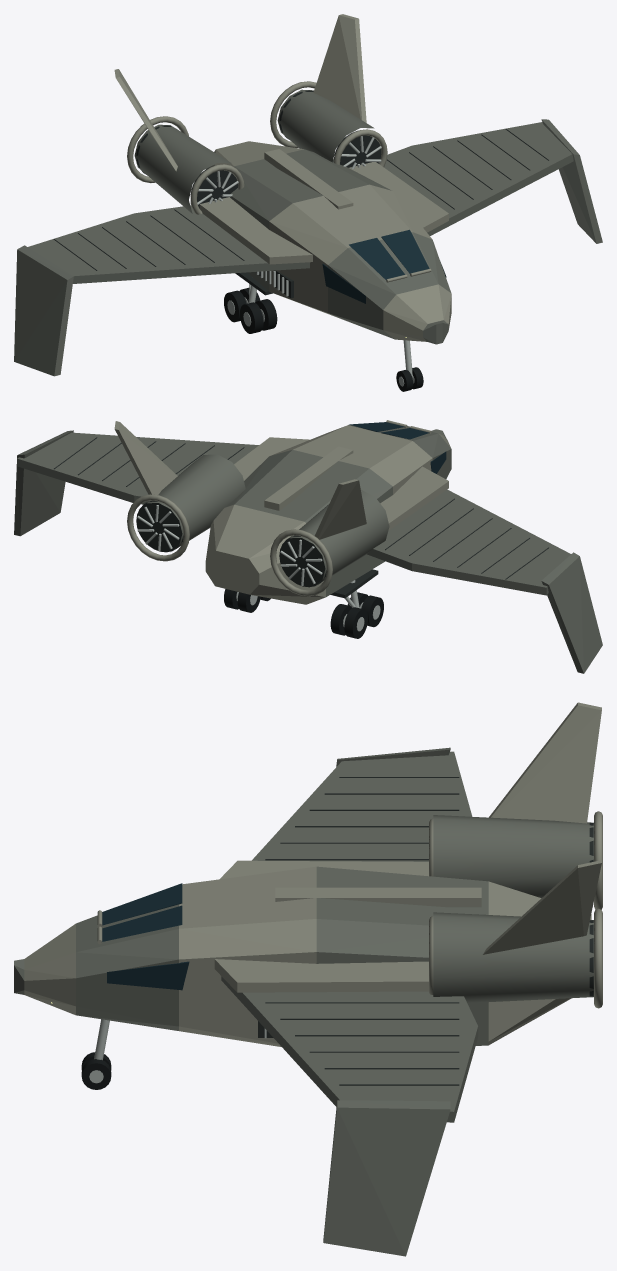
Rendered from atlas-42.glb.
The picture shows the model from 3 angles, top to bottom: view 1: azimuth 30°, elevation 25°; view 2: azimuth 150°, elevation 25°; view 3: azimuth 270°, elevation 25°; orthographic projection. The views are drawn at different scales.
Visible parts, largest first — view 1: Swept_wing_-1, Swept_wing_1, Fuselage_2, Downturned_tip_-1, Fuselage_3, Fuselage_1, Engine_shroud_-1, Engine_shroud_1, Canted_tail_1, Wing_root_armor_-1, Fuselage_4, Downturned_tip_1 (+14 smaller); view 2: Swept_wing_-1, Swept_wing_1, Fuselage_0, Fuselage_1, Fuselage_2, Engine_shroud_1, Downturned_tip_-1, Engine_shroud_-1, Downturned_tip_1, Wing_root_armor_-1, Canted_tail_-1, Canted_tail_1 (+9 smaller); view 3: Swept_wing_1, Fuselage_2, Swept_wing_-1, Downturned_tip_1, Engine_shroud_1, Fuselage_1, Engine_shroud_-1, Fuselage_3, Canted_tail_-1, Wing_root_armor_1, Canted_tail_1, Dorsal_spine (+8 smaller).
Part boxes in pixels (box(x1,y1,x2,y2)): Swept_wing_-1: box(28, 205, 309, 283); Swept_wing_1: box(384, 122, 573, 235); Fuselage_2: box(269, 184, 432, 319); Downturned_tip_-1: box(14, 245, 73, 376); Fuselage_3: box(328, 232, 451, 339); Fuselage_1: box(230, 149, 391, 291); Engine_shroud_-1: box(134, 124, 231, 213); Engine_shroud_1: box(277, 89, 374, 162); Canted_tail_1: box(313, 14, 366, 122); Wing_root_armor_-1: box(190, 197, 312, 264); Fuselage_4: box(383, 284, 451, 341); Downturned_tip_1: box(541, 119, 602, 243); Swept_wing_-1: box(367, 489, 570, 595); Swept_wing_1: box(17, 432, 258, 504); Fuselage_0: box(205, 504, 325, 604); Fuselage_1: box(225, 449, 392, 596); Fuselage_2: box(270, 425, 432, 494); Engine_shroud_1: box(147, 454, 245, 551); Downturned_tip_-1: box(541, 552, 602, 673); Engine_shroud_-1: box(290, 489, 389, 586); Downturned_tip_1: box(14, 430, 73, 536); Wing_root_armor_-1: box(380, 466, 448, 530); Canted_tail_-1: box(314, 479, 366, 539); Canted_tail_1: box(114, 421, 177, 494); Swept_wing_1: box(221, 976, 478, 1122); Fuselage_2: box(179, 866, 316, 1046); Swept_wing_-1: box(252, 751, 472, 861); Downturned_tip_1: box(323, 1100, 450, 1256); Engine_shroud_1: box(433, 912, 593, 1003); Fuselage_1: box(316, 866, 488, 1045); Engine_shroud_-1: box(433, 815, 593, 897); Fuselage_3: box(76, 904, 178, 1030); Canted_tail_-1: box(489, 702, 601, 823); Wing_root_armor_1: box(214, 959, 428, 992); Canted_tail_1: box(483, 860, 601, 954); Dorsal_spine: box(275, 887, 481, 907).
Size of the model in its own units: 26.7 by 9.6 by 17.13.
